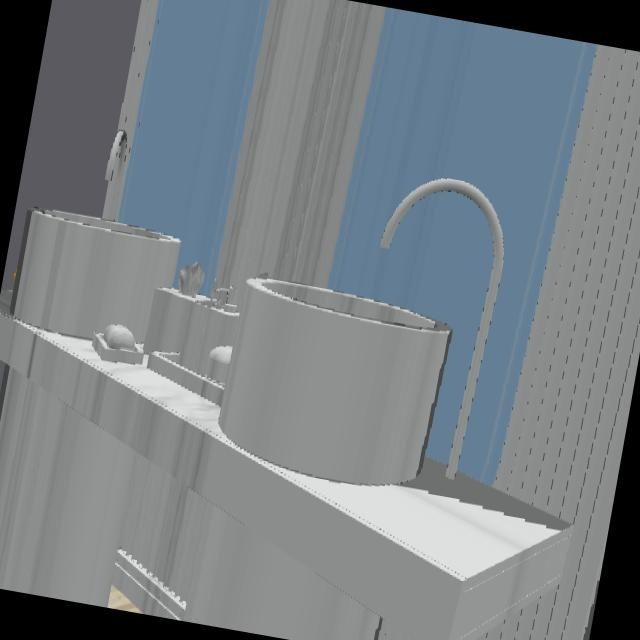washbasin: (216, 278, 451, 487), (378, 178, 505, 481), (11, 130, 181, 344)
